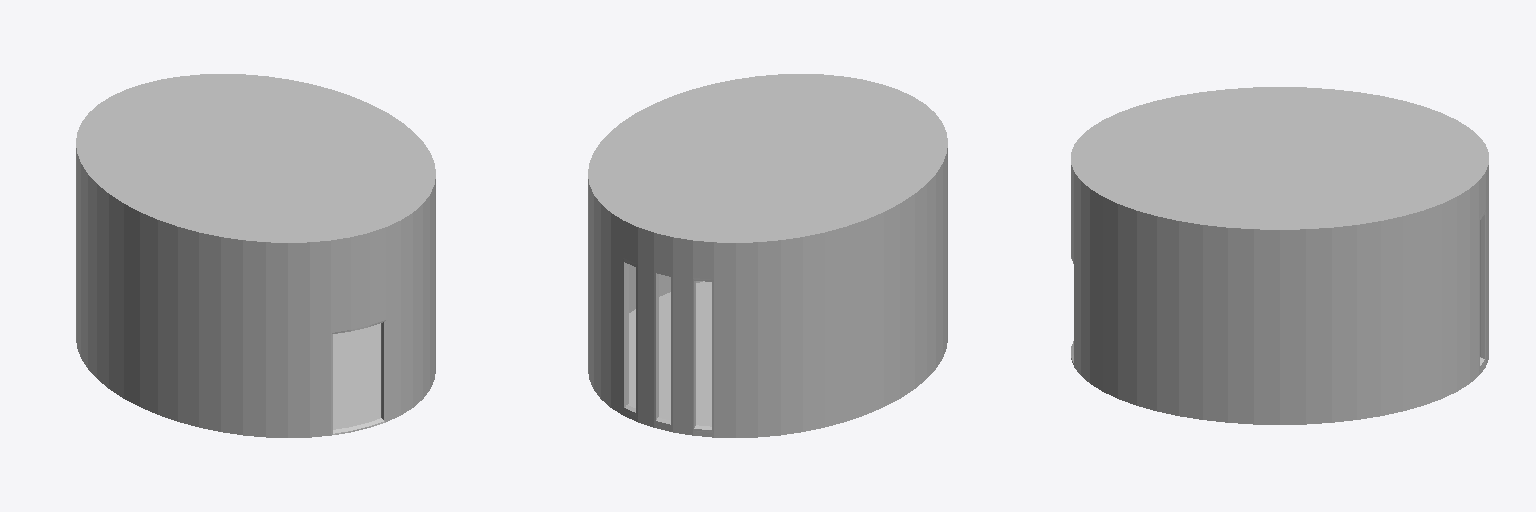
Rendered from OfficeRoom.obj.
3 views of the same model, side by side, from view 1: azimuth 30°, elevation 25°; view 2: azimuth 150°, elevation 25°; view 3: azimuth 270°, elevation 25° (orthographic).
Parts seen in each view (by area): view 1: pCylinder1; view 2: pCylinder1; view 3: pCylinder1.
Boxes of the visible parts, x1,y1,x2,y2 form: pCylinder1: [76, 74, 435, 437]; pCylinder1: [588, 74, 947, 437]; pCylinder1: [1071, 87, 1488, 424].
Bounding box in the file's own units: 17.97 × 11.44 × 22.21.